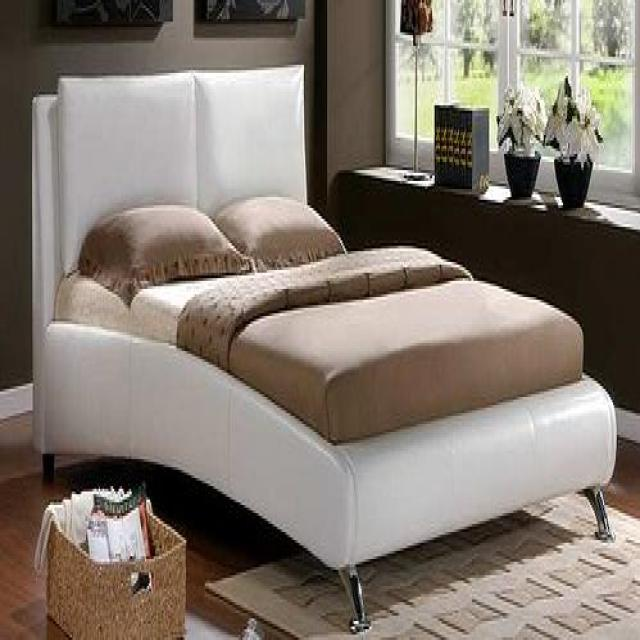bed: (29, 62, 617, 632)
